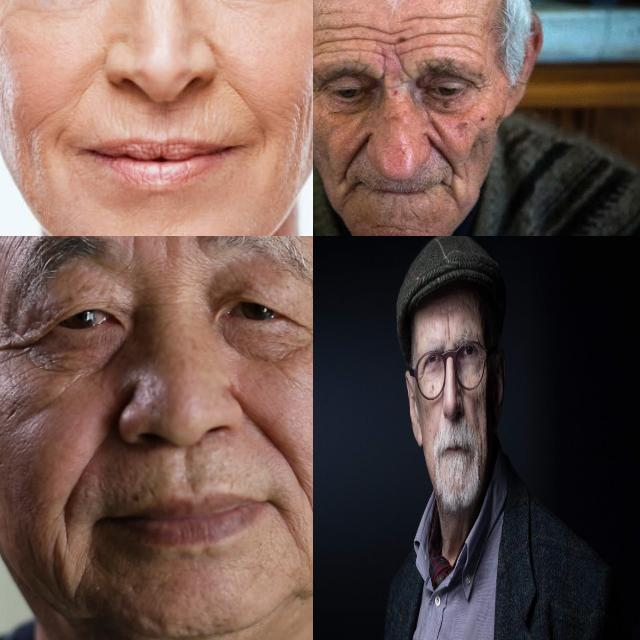chin: (40, 543, 86, 593), (371, 220, 401, 236)
crows_feet: (0, 329, 40, 357), (418, 364, 424, 384)
forehead: (318, 20, 358, 44), (432, 27, 466, 53), (364, 21, 394, 49), (438, 7, 476, 27), (313, 44, 360, 59), (400, 31, 428, 55), (404, 7, 432, 27)
frown_line: (122, 236, 148, 263), (392, 54, 414, 82), (376, 54, 392, 84), (186, 236, 212, 251), (159, 236, 177, 257), (444, 315, 455, 342)
gummy_smile: (54, 439, 110, 523), (242, 410, 308, 480), (223, 78, 250, 109), (73, 72, 94, 111), (343, 136, 367, 170), (429, 138, 456, 168)
masseter: (290, 97, 313, 155), (478, 428, 485, 464)
sad_smile: (268, 498, 302, 534), (44, 130, 70, 154), (251, 124, 267, 160)
